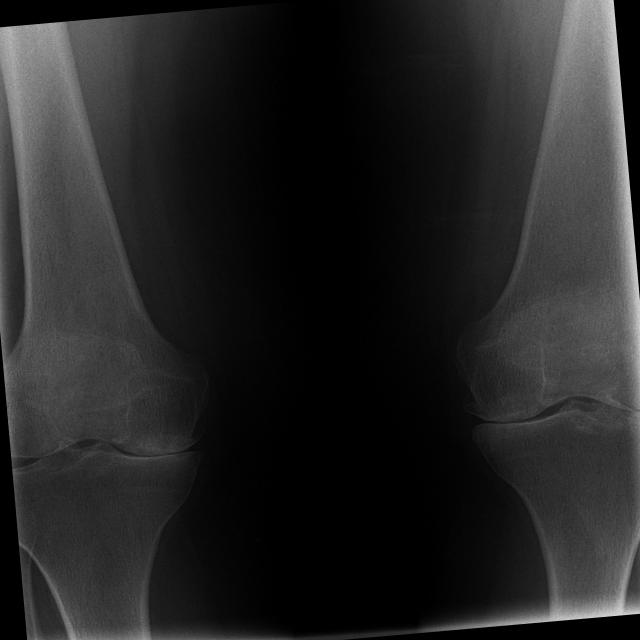Knee: (5, 355, 222, 520), (443, 313, 640, 488)
